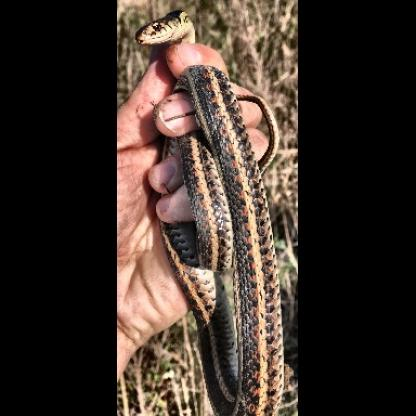Snake: (133, 7, 288, 408)
